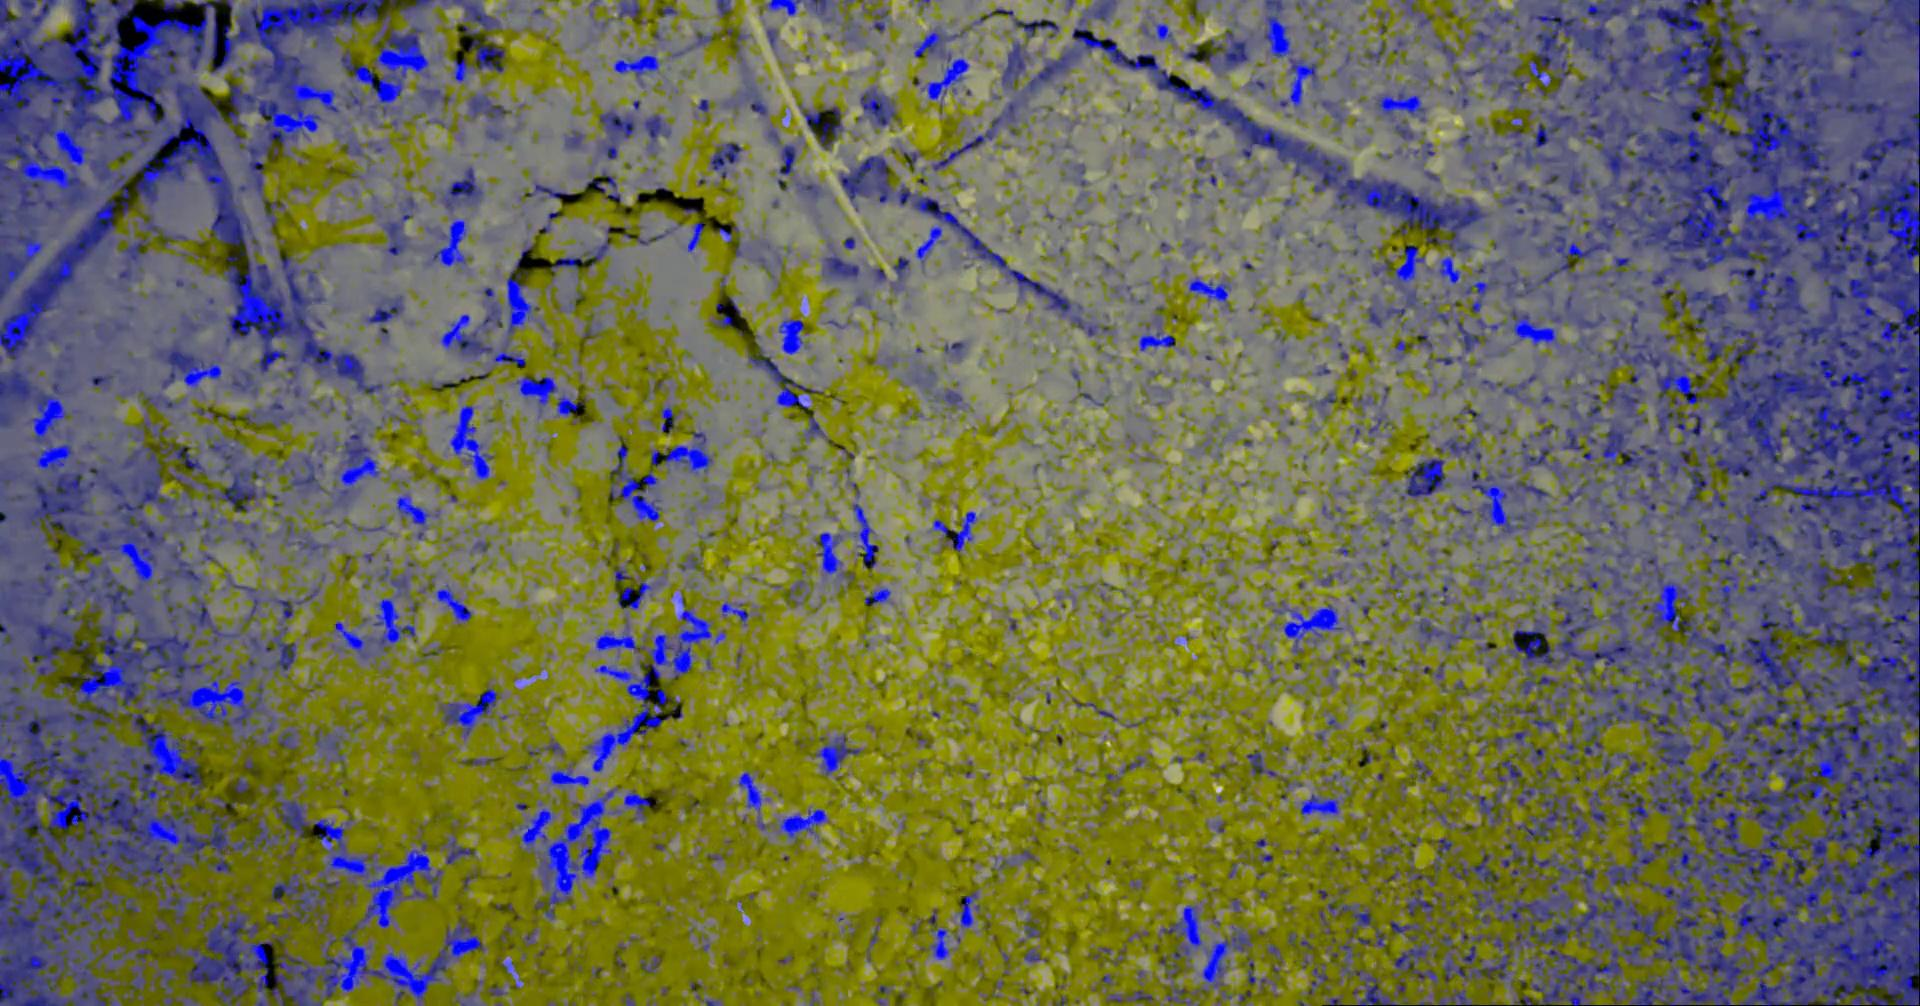ant: (747, 334, 823, 410), (549, 225, 630, 279), (1476, 702, 1558, 754), (1416, 608, 1495, 650), (971, 8, 1058, 39), (1542, 286, 1605, 328), (1498, 180, 1564, 216), (1246, 749, 1302, 788), (382, 196, 417, 257), (425, 218, 470, 265), (814, 733, 862, 776), (797, 104, 843, 149), (395, 493, 439, 539), (467, 93, 510, 140), (439, 166, 483, 213), (813, 532, 853, 582), (512, 375, 557, 418), (1520, 439, 1568, 480), (597, 109, 636, 159), (363, 293, 403, 342), (1509, 307, 1557, 347), (282, 516, 330, 555), (243, 398, 305, 428), (932, 511, 977, 551), (1415, 330, 1462, 368), (1374, 86, 1426, 121), (738, 771, 767, 829), (778, 808, 828, 842), (1138, 305, 1175, 351), (852, 503, 877, 568), (1481, 373, 1537, 403), (1189, 276, 1233, 311), (1457, 133, 1497, 171), (764, 0, 836, 22), (615, 577, 663, 608), (858, 86, 897, 126), (919, 908, 949, 959), (312, 727, 347, 770), (613, 55, 659, 86), (436, 584, 472, 624), (441, 822, 475, 864), (1001, 41, 1029, 90), (1583, 788, 1608, 843), (767, 128, 796, 174), (1462, 29, 1511, 55), (549, 760, 589, 790), (641, 113, 670, 155), (1435, 434, 1481, 461), (583, 169, 620, 202), (709, 142, 742, 178), (737, 79, 767, 116), (377, 567, 414, 597), (670, 30, 712, 57), (601, 0, 640, 28), (340, 135, 370, 171), (822, 251, 858, 281), (778, 318, 808, 354), (1578, 561, 1610, 594), (519, 180, 574, 199), (1299, 793, 1343, 815), (1459, 403, 1491, 434), (1397, 0, 1434, 27), (1288, 931, 1314, 968), (990, 848, 1037, 869), (1241, 954, 1266, 989), (957, 889, 980, 929), (1421, 807, 1457, 829), (1423, 293, 1449, 325), (1501, 224, 1525, 257), (415, 86, 452, 108), (1437, 983, 1474, 1005), (804, 412, 829, 442), (623, 790, 649, 821), (717, 225, 742, 257), (690, 981, 721, 1005), (1076, 702, 1117, 720), (1374, 841, 1403, 866), (1305, 963, 1328, 995), (635, 227, 676, 245), (1309, 390, 1336, 417), (1559, 735, 1583, 765), (527, 737, 564, 756), (866, 916, 881, 962), (862, 6, 888, 33), (720, 601, 748, 625), (1321, 99, 1343, 128), (556, 394, 587, 415), (1368, 413, 1389, 443), (1528, 418, 1558, 439), (890, 257, 909, 291), (1481, 8, 1512, 28), (399, 0, 434, 18), (1140, 22, 1173, 41), (335, 518, 383, 531), (1413, 589, 1437, 615), (1105, 989, 1153, 1002), (1265, 942, 1283, 976), (1617, 288, 1644, 309), (660, 405, 679, 434), (912, 367, 935, 391), (537, 211, 563, 232), (277, 724, 298, 749), (1364, 39, 1385, 64), (783, 579, 804, 605), (795, 180, 822, 199), (1119, 754, 1145, 774), (687, 222, 703, 251), (863, 587, 890, 605), (1023, 911, 1041, 937), (560, 290, 582, 311), (711, 304, 731, 326), (1410, 760, 1432, 780), (458, 367, 491, 381), (193, 405, 222, 420), (1422, 661, 1444, 680), (582, 315, 599, 338), (1439, 577, 1453, 605), (1394, 119, 1413, 140), (564, 130, 584, 149), (902, 151, 922, 170), (1394, 339, 1413, 359), (943, 340, 964, 359), (942, 390, 963, 409), (639, 955, 660, 973), (735, 29, 747, 61), (462, 869, 480, 889), (679, 554, 701, 570), (419, 647, 441, 663), (163, 0, 193, 11), (844, 17, 860, 39), (211, 796, 245, 807), (1023, 948, 1048, 962), (1412, 142, 1434, 158), (1321, 570, 1342, 586), (1371, 513, 1394, 527), (875, 984, 890, 1005), (455, 991, 476, 1005), (613, 565, 631, 582), (231, 775, 248, 793), (1529, 217, 1544, 236), (1436, 784, 1451, 803), (1246, 79, 1266, 93), (79, 439, 99, 453), (199, 551, 220, 565), (655, 4, 677, 17), (715, 0, 731, 17), (1453, 680, 1470, 695), (174, 278, 197, 290), (1473, 574, 1484, 597), (1356, 395, 1377, 408), (1194, 155, 1210, 170), (522, 929, 536, 946), (766, 28, 777, 48), (871, 267, 886, 282), (486, 984, 507, 996), (472, 540, 490, 553), (1390, 561, 1403, 579), (1451, 503, 1470, 514), (1512, 993, 1531, 1005), (855, 292, 869, 307), (428, 380, 455, 387), (1490, 702, 1498, 725), (621, 991, 635, 1005), (1477, 171, 1490, 187), (471, 757, 495, 765), (1326, 995, 1343, 1005), (1539, 392, 1553, 405), (502, 962, 517, 973), (842, 236, 855, 249), (1470, 0, 1484, 11), (697, 99, 709, 113), (1098, 974, 1112, 984), (1327, 716, 1338, 728), (1258, 854, 1272, 862)
